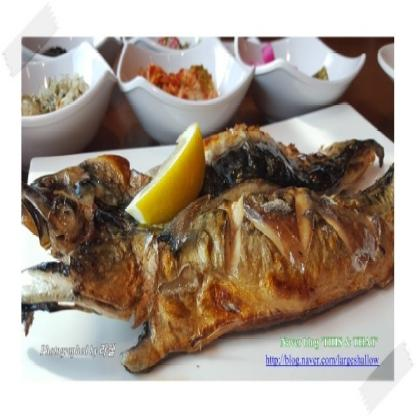Peixe: (12, 96, 396, 374)
